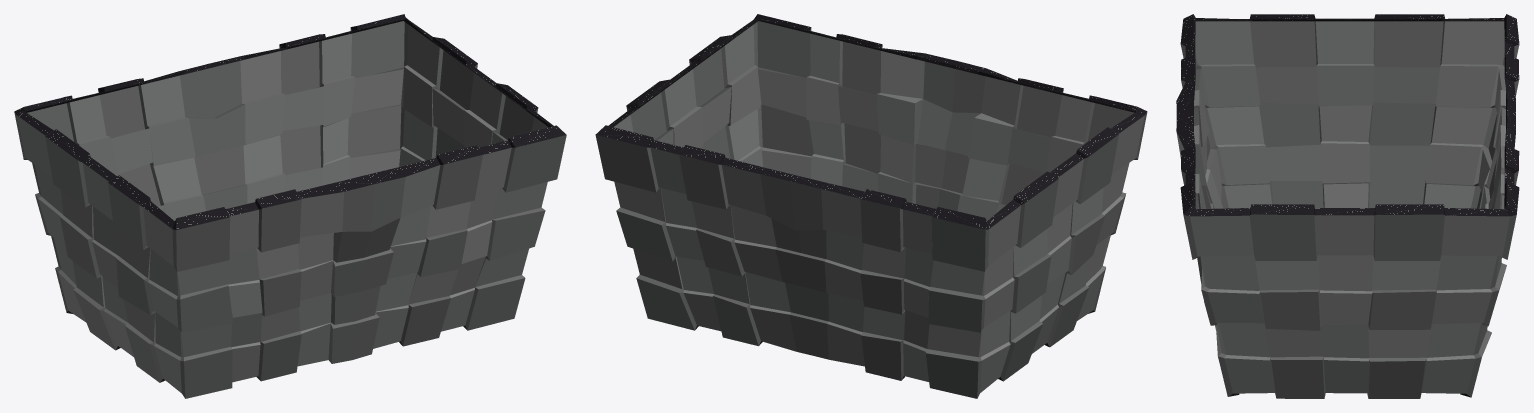
The model's file is Character IronBottom.fbx.
3 views of the same model, side by side, from view 1: azimuth 30°, elevation 25°; view 2: azimuth 150°, elevation 25°; view 3: azimuth 270°, elevation 25° (orthographic). The views are drawn at different scales.
Parts seen in each view (by area): view 1: IronBottom; view 2: IronBottom; view 3: IronBottom.
Part boxes in pixels (x1=…): IronBottom: x1=14, y1=14, x2=566, y2=398; IronBottom: x1=595, y1=14, x2=1147, y2=398; IronBottom: x1=1176, y1=14, x2=1519, y2=398.
Bounding box in the file's own units: 125 × 59.72 × 90.02.
